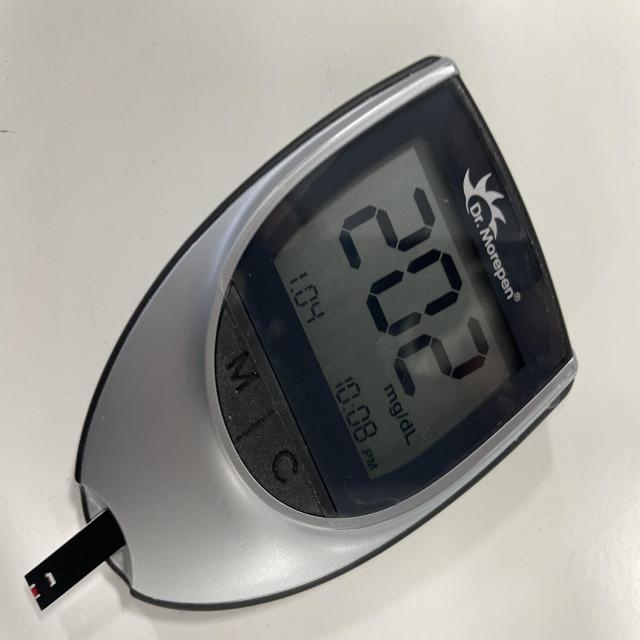gluco: (39, 56, 579, 615)
